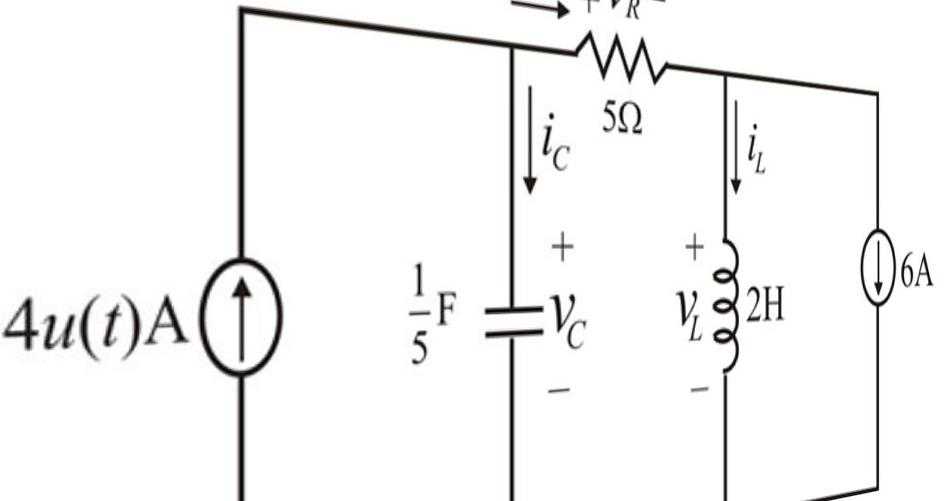inductor: (695, 226, 750, 405)
